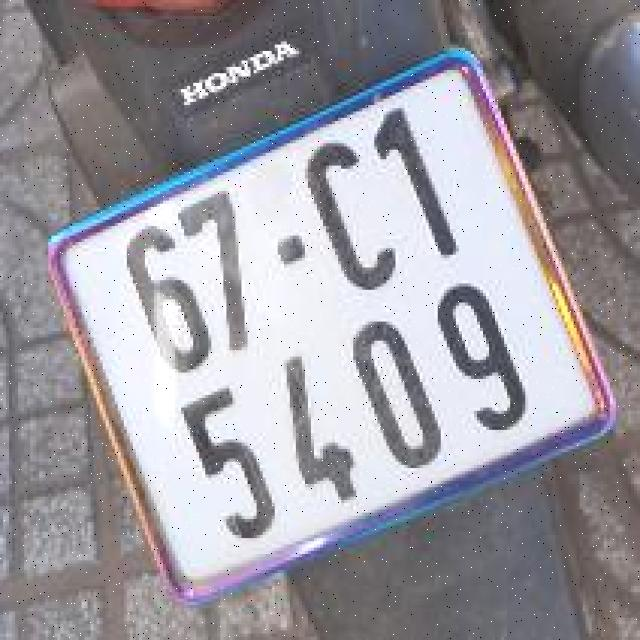0: (331, 299, 468, 492), (360, 90, 480, 283)
4: (257, 340, 374, 524)
5: (167, 379, 290, 555)
6: (109, 216, 220, 389)
7: (168, 179, 269, 371)
9: (420, 264, 545, 444)
C: (284, 124, 418, 313)
